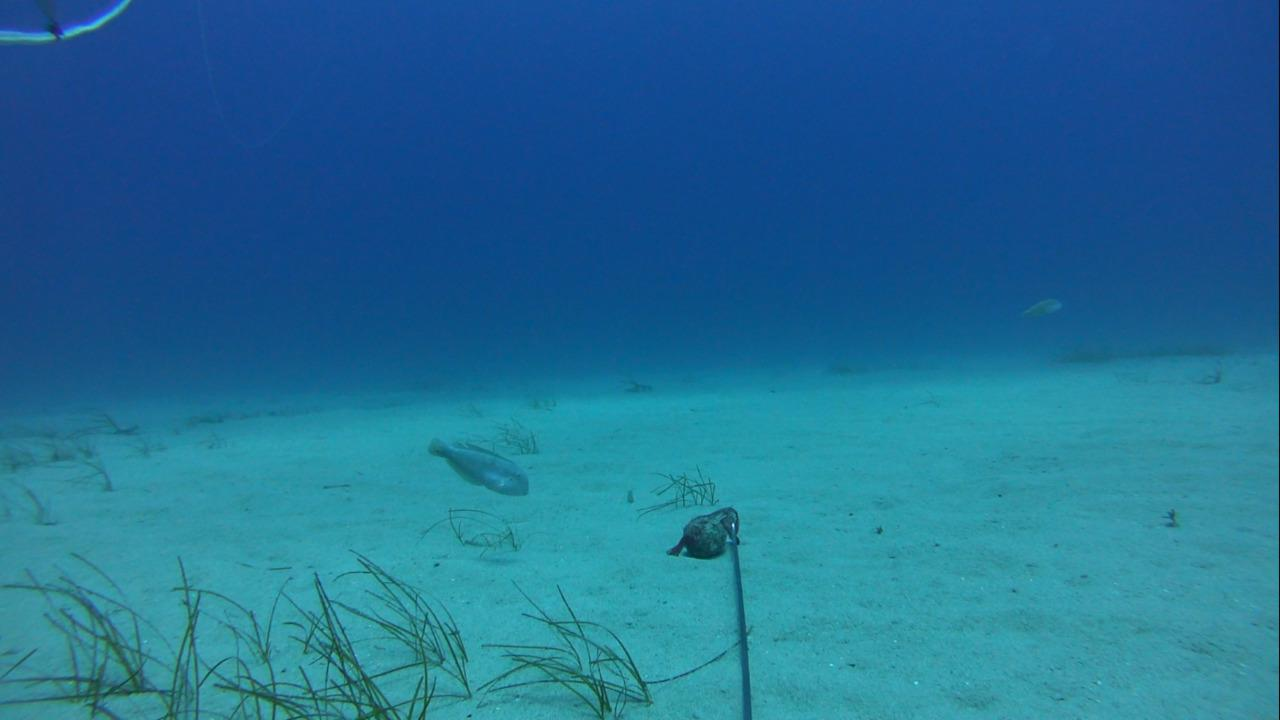raor: (416, 432, 534, 501), (1014, 295, 1066, 323)
